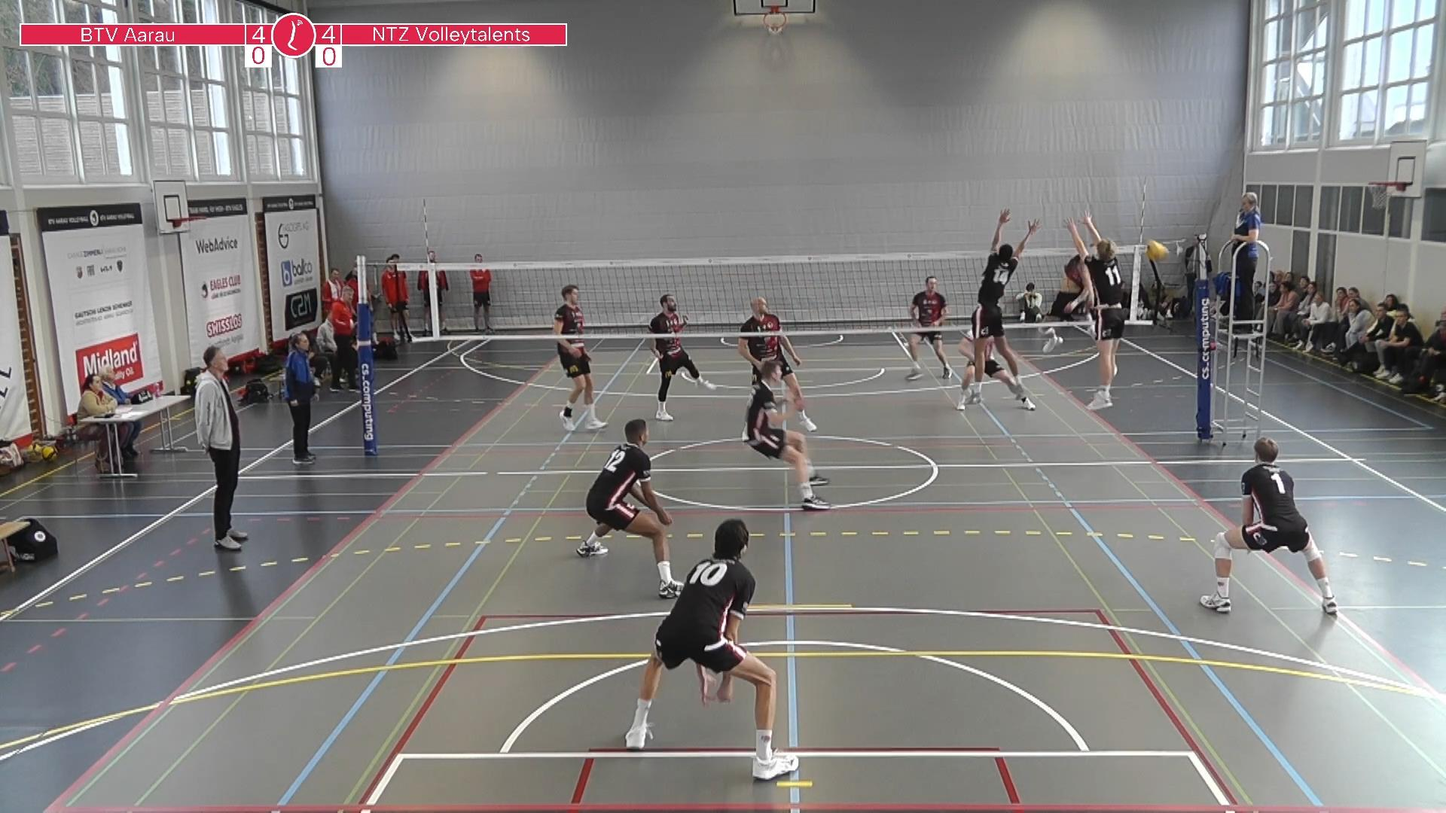attacco: (1043, 236, 1104, 357)
muro: (966, 208, 1044, 402), (1067, 208, 1130, 412)
